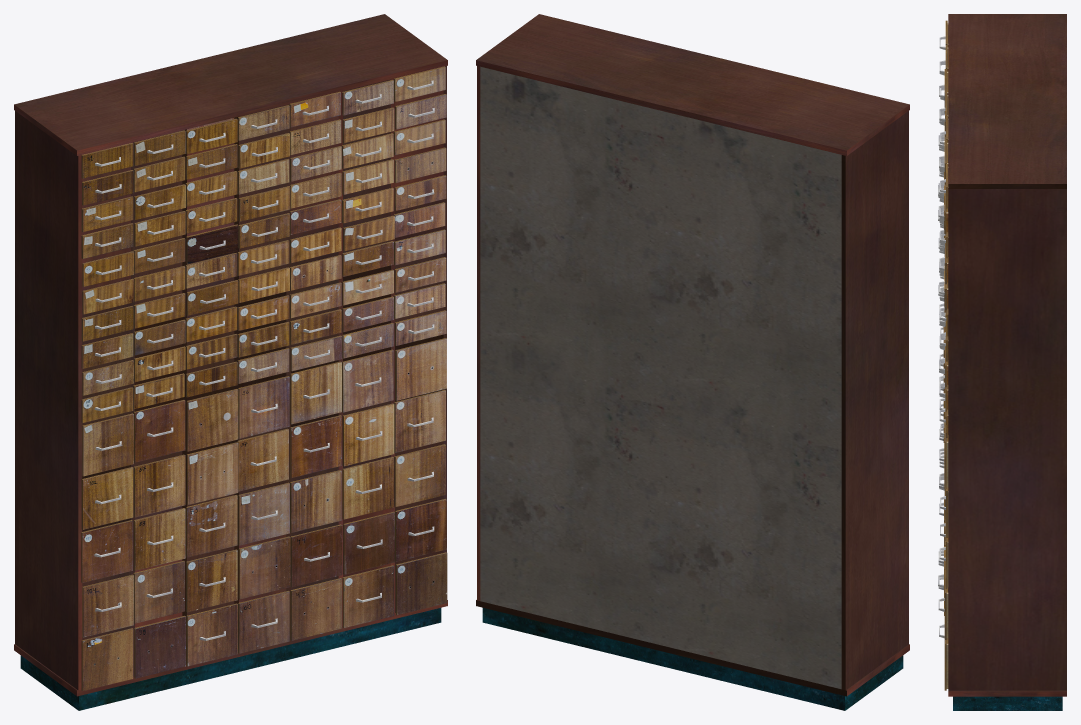
The model's file is cabinet03.glb.
3 views of the same model, side by side, from view 1: azimuth 30°, elevation 25°; view 2: azimuth 150°, elevation 25°; view 3: azimuth 270°, elevation 25° (orthographic). The views are drawn at different scales.
Parts seen in each view (by area): view 1: Object_3, Object_4, Object_2; view 2: Object_3, Object_4; view 3: Object_4, Object_3, Object_2.
Part boxes in pixels (bbox=[...]): Object_3: bbox=[14, 14, 447, 710]; Object_4: bbox=[14, 104, 446, 710]; Object_2: bbox=[81, 79, 434, 422]; Object_3: bbox=[476, 14, 909, 710]; Object_4: bbox=[845, 104, 909, 710]; Object_4: bbox=[943, 23, 1066, 710]; Object_3: bbox=[938, 14, 1066, 691]; Object_2: bbox=[938, 36, 948, 437].
Size of the model in its own units: 1.39 by 2.01 by 0.4442.
1 material, 1 textured.
